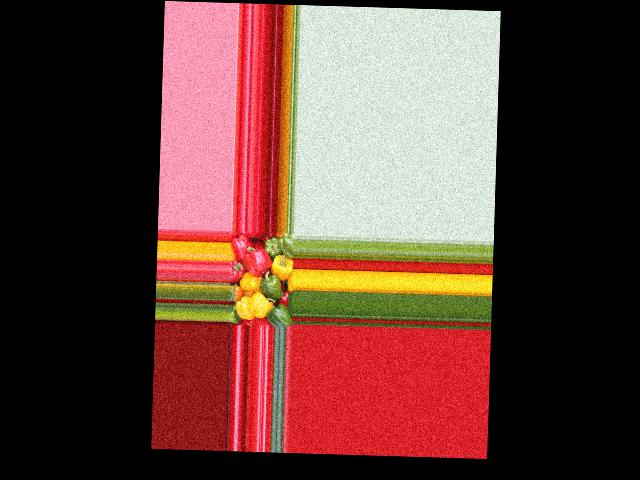bell_pepper: (228, 301, 240, 323)
